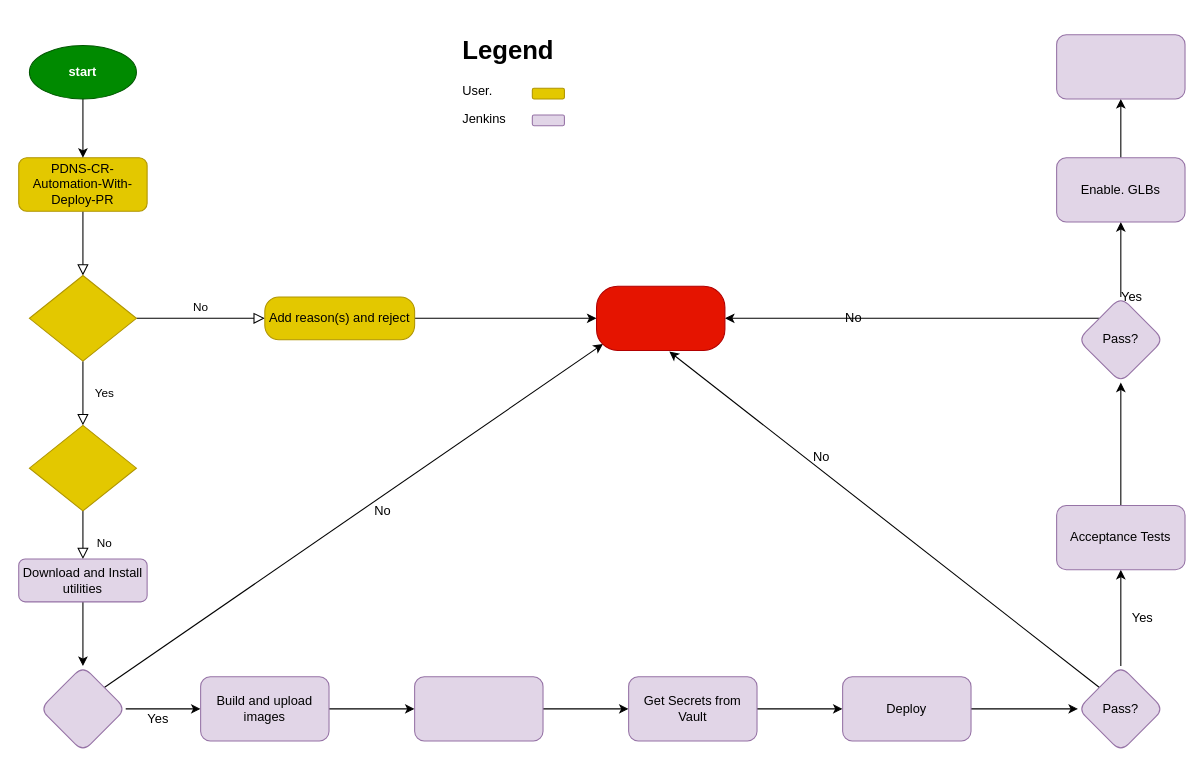
This 1204x770 diagram has some shape labels left out. The shapes that lost their labels are listed below. From the top down, each one's box as (x1, y1, x2, y2) in pixels, then its label:
(1056, 34, 1185, 99): Merge
(28, 274, 136, 361): Approved
(595, 285, 725, 350): STOP
(28, 424, 136, 511): Start Jenkins Deploy Job
(39, 665, 126, 752): Validation
(414, 676, 543, 741): Disable GLBs
